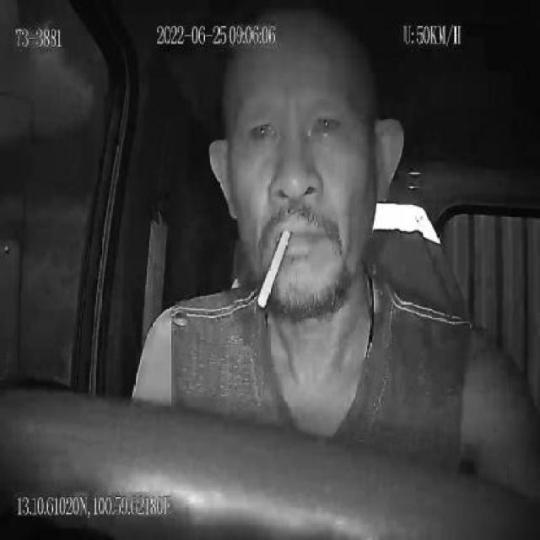smoking: (258, 226, 290, 310)
